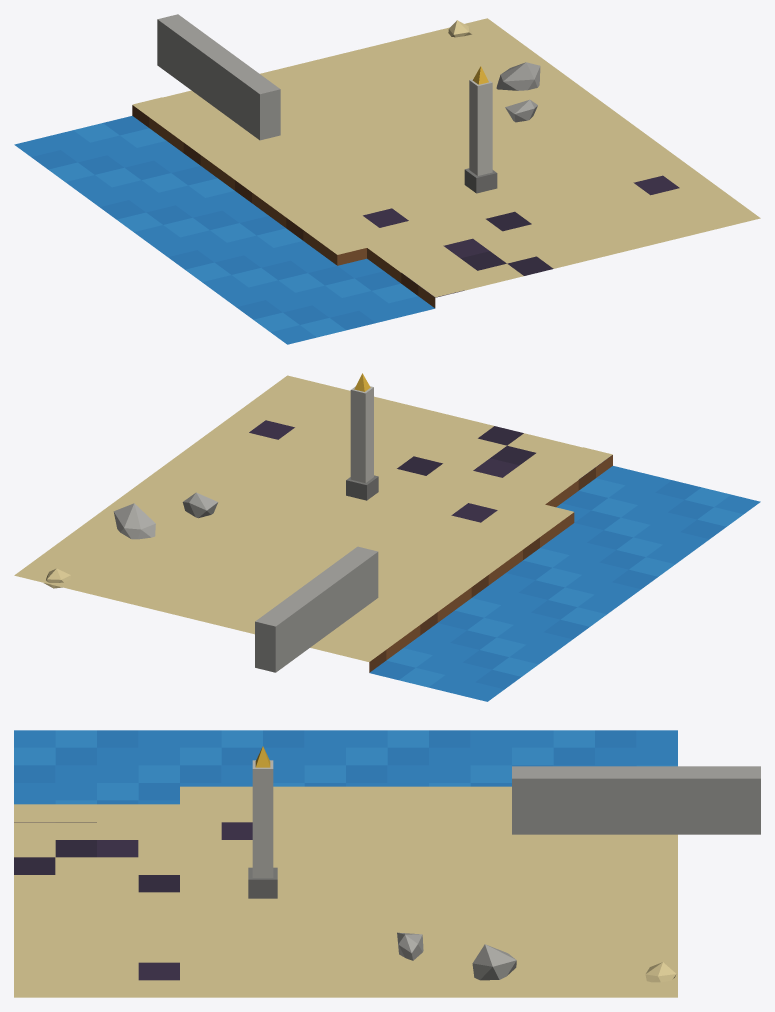
File: chunk_4_21.glb
3 renders of one model, top to bottom at view 1: azimuth 30°, elevation 25°; view 2: azimuth 150°, elevation 25°; view 3: azimuth 270°, elevation 25°, orthographic. The views are drawn at different scales.
Visible parts, largest first — view 1: chunk_4_21; view 2: chunk_4_21; view 3: chunk_4_21.
Boxes of the visible parts, x1,y1,x2,y2 form: chunk_4_21: (14, 14, 760, 344); chunk_4_21: (14, 373, 760, 701); chunk_4_21: (14, 730, 760, 997).
Bounding box in the file's own units: 16 × 4.33 × 18.
